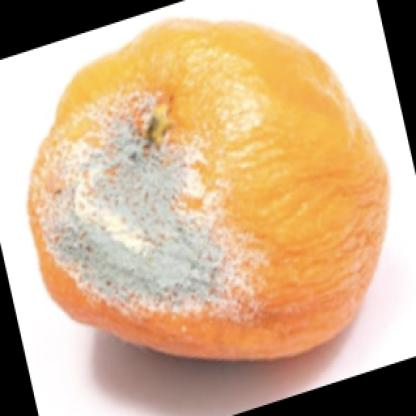rotten: (31, 19, 389, 363)
